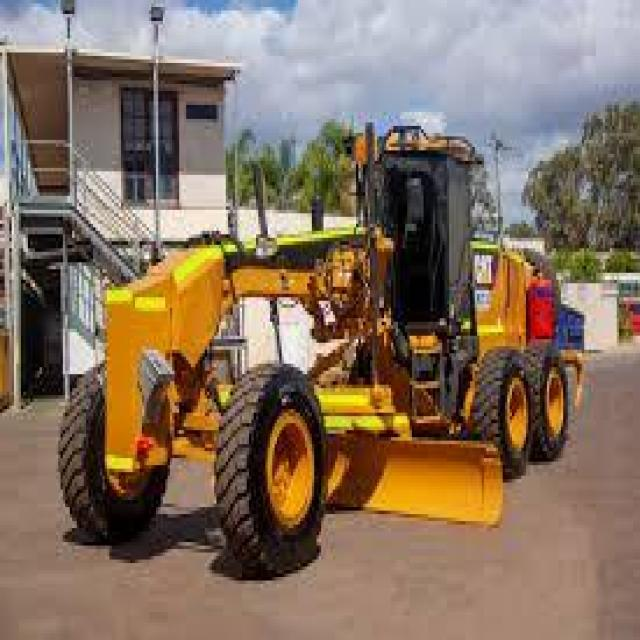buldozerpayloadergrader: (49, 112, 586, 601)
